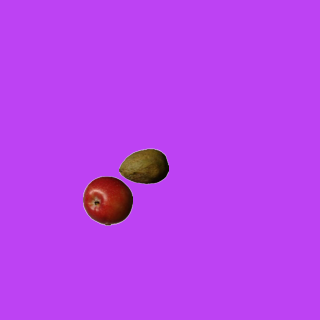Apple Braeburn: (82, 175, 132, 225)
Papaya: (118, 141, 168, 191)
